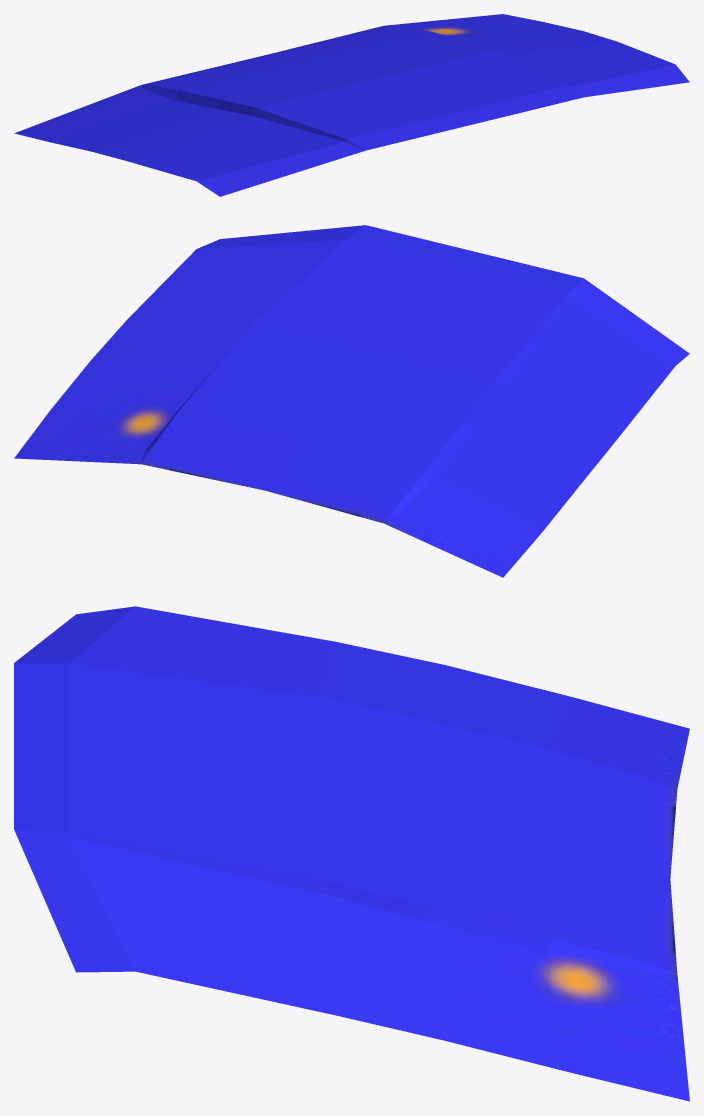
The model's file is hood5.obj.
The picture shows the model from 3 angles, top to bottom: view 1: azimuth 30°, elevation 25°; view 2: azimuth 150°, elevation 25°; view 3: azimuth 270°, elevation 25°; orthographic projection. The views are drawn at different scales.
Parts seen in each view (by area): view 1: hood; view 2: hood; view 3: hood.
Part boxes in pixels (x1,y1,x2,y2): hood: (14,14,689,196); hood: (14,225,689,577); hood: (14,606,689,1101).
Size of the model in its own units: 1.09 by 0.2289 by 0.8304.
